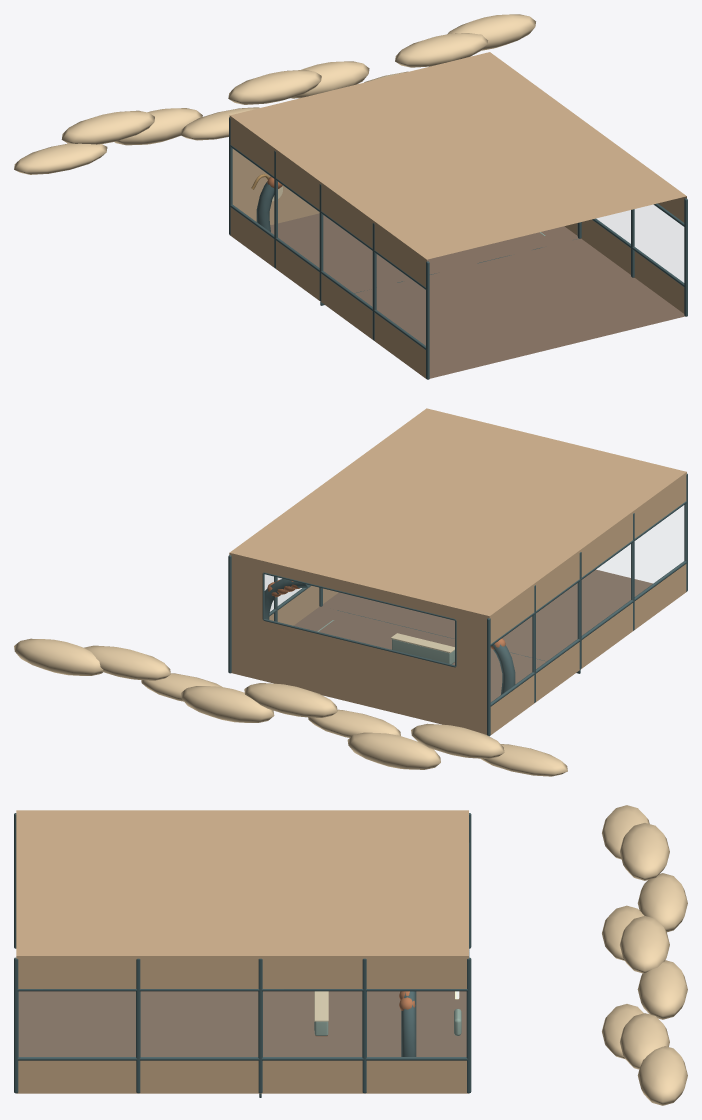
The model's file is garage.glb.
3 views of the same model, one above another, from view 1: azimuth 30°, elevation 25°; view 2: azimuth 150°, elevation 25°; view 3: azimuth 270°, elevation 25° (orthographic). The views are drawn at different scales.
Visible parts, largest first — view 1: Roof panels - Wall, Floor extension - Floor, Outside the glazing - Glass rim, Port wall - Wall, Floor - Floor, Port wall - Rib, Starboard wall - Wall, Rear bulkhead - Wall, Starboard wall - Rib, Signature architecture - Rib; view 2: Roof panels - Wall, Rear bulkhead - Wall, Outside the glazing - Glass rim, Port wall - Wall, Floor extension - Floor, Floor - Floor, Port wall - Rib, Rear bulkhead - Rib, Starboard wall - Wall, Signature architecture - Rib, Starboard wall - Rib, Counter - Secondary; view 3: Roof panels - Wall, Starboard wall - Wall, Outside the glazing - Glass rim, Floor extension - Floor, Floor - Floor, Starboard wall - Rib, Signature architecture - Rib, Port wall - Rib, Counter - Pale.
Part boxes in pixels (<box>): Roof panels - Wall: <box>230,52,686,259</box>; Floor extension - Floor: <box>355,238,684,378</box>; Outside the glazing - Glass rim: <box>14,14,535,174</box>; Port wall - Wall: <box>229,115,426,378</box>; Floor - Floor: <box>270,213,578,293</box>; Port wall - Rib: <box>229,117,429,379</box>; Starboard wall - Wall: <box>564,196,686,313</box>; Rear bulkhead - Wall: <box>232,149,319,225</box>; Starboard wall - Rib: <box>577,198,687,316</box>; Signature architecture - Rib: <box>256,181,274,232</box>; Roof panels - Wall: <box>229,408,686,616</box>; Rear bulkhead - Wall: <box>229,553,489,734</box>; Outside the glazing - Glass rim: <box>14,638,567,776</box>; Port wall - Wall: <box>489,472,686,735</box>; Floor extension - Floor: <box>322,569,652,661</box>; Floor - Floor: <box>294,606,546,702</box>; Port wall - Rib: <box>487,473,687,736</box>; Rear bulkhead - Rib: <box>262,572,456,667</box>; Starboard wall - Wall: <box>269,585,338,625</box>; Signature architecture - Rib: <box>264,578,515,694</box>; Starboard wall - Rib: <box>228,555,322,673</box>; Counter - Secondary: <box>392,639,454,664</box>; Roof panels - Wall: <box>16,810,468,955</box>; Starboard wall - Wall: <box>16,956,468,1093</box>; Outside the glazing - Glass rim: <box>602,805,687,1105</box>; Floor extension - Floor: <box>18,991,258,1056</box>; Floor - Floor: <box>263,991,466,1056</box>; Starboard wall - Rib: <box>14,957,471,1093</box>; Signature architecture - Rib: <box>401,991,416,1056</box>; Port wall - Rib: <box>14,813,471,948</box>; Counter - Pale: <box>314,991,328,1021</box>.
Bounding box in the file's own units: 39.7 × 8.75 × 37.53.
